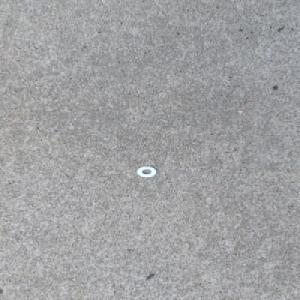Washer: (136, 164, 158, 178)
